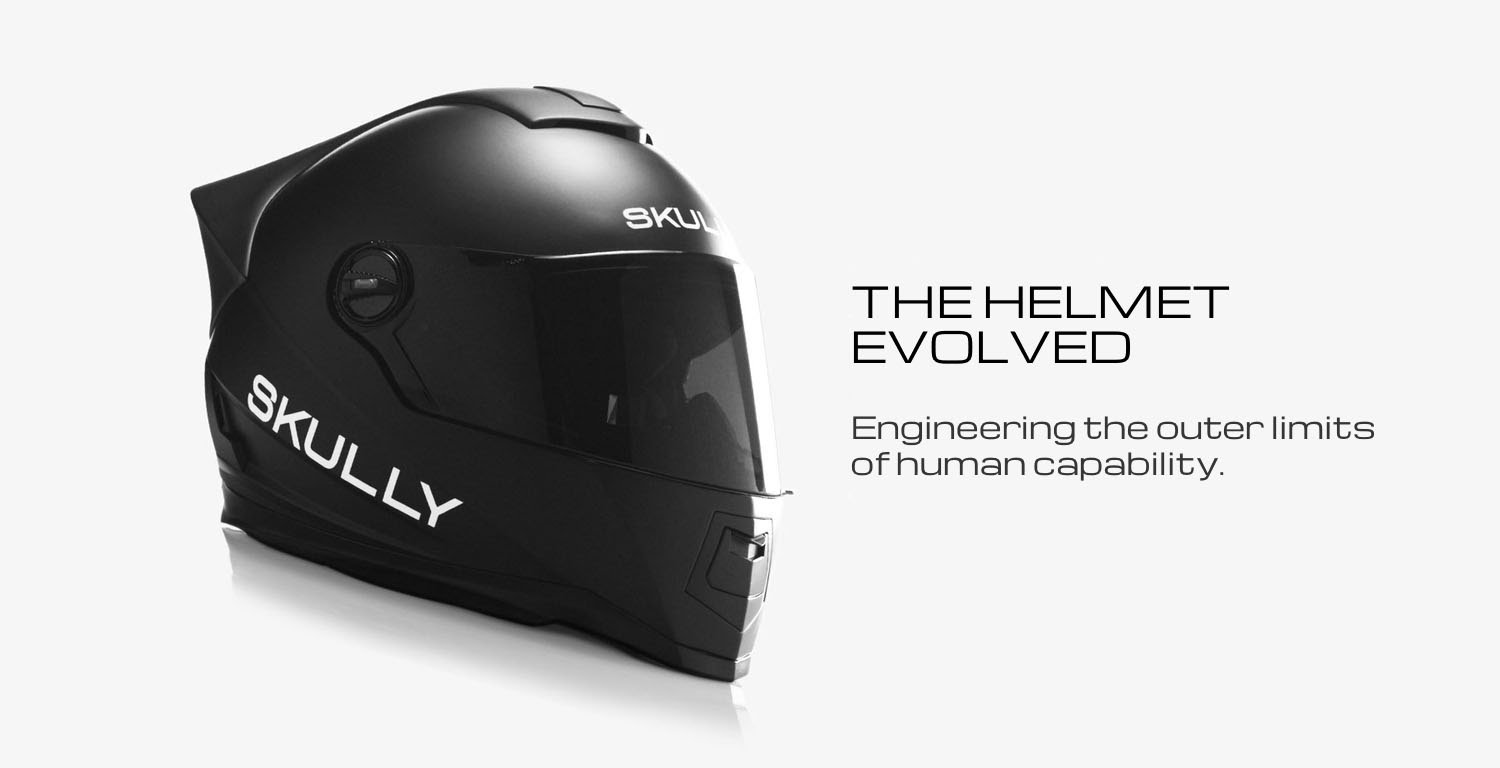with_helmet: (187, 77, 789, 693)
